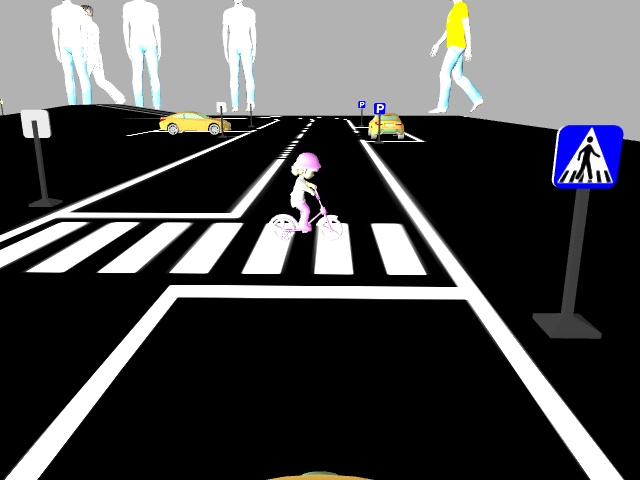Crosswalk: (550, 125, 623, 190)
Parking: (372, 102, 386, 114), (356, 98, 365, 108)
Pedestrian: (267, 152, 346, 241)
